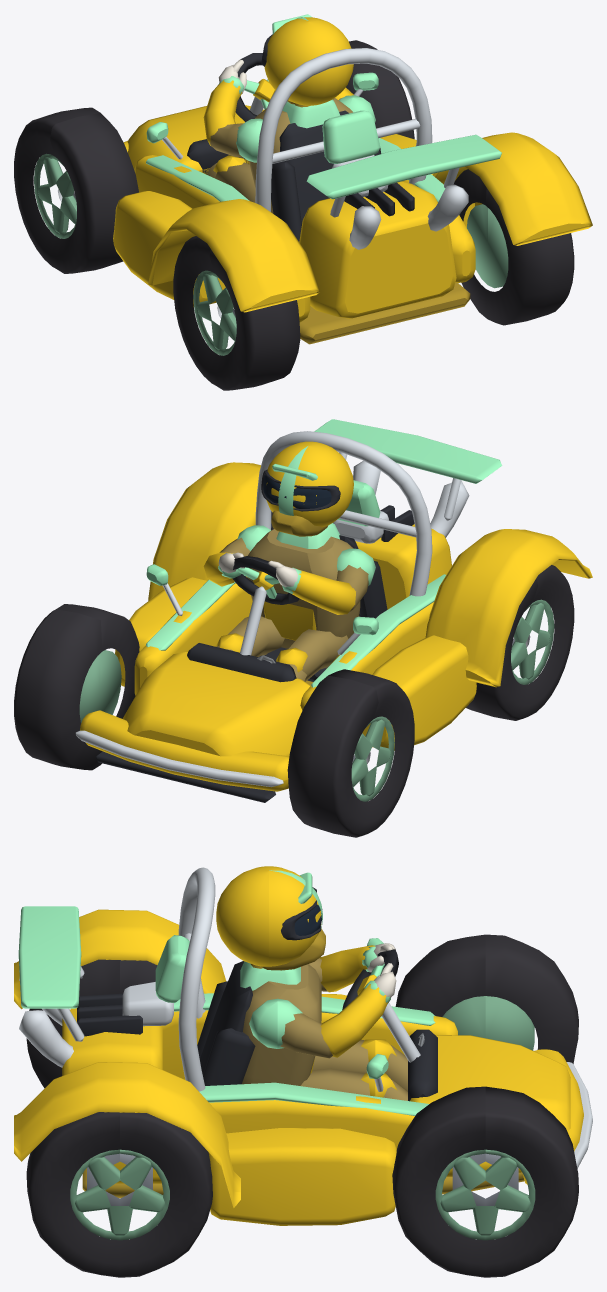
The model's file is kart_6.glb.
3 views of the same model, one above another, from view 1: azimuth 30°, elevation 25°; view 2: azimuth 150°, elevation 25°; view 3: azimuth 270°, elevation 25° (orthographic). The views are drawn at different scales.
Parts seen in each view (by area): view 1: bodyPaint, bodyFenders, WheelFL_tyre, WheelRL_tyre, WheelRR_tyre, bodyChrome, bodyPlastic, driverHelmet, driverArms, driverTorso, WheelFR_tyre, steeringWheel; view 2: bodyPaint, bodyFenders, WheelFL_tyre, WheelFR_tyre, bodyChrome, driverTorso, WheelRL_tyre, driverHelmet, bodyPlastic, driverArms, steeringWheel, driverVisor; view 3: bodyPaint, WheelFR_tyre, WheelRR_tyre, bodyFenders, WheelFL_tyre, bodyChrome, driverTorso, bodyPlastic, driverHelmet, driverArms, WheelRL_tyre, steeringWheel (+1 smaller).
Boxes of the visible parts, x1,y1,x2,y2 form: bodyPaint: [113, 72, 501, 322]; bodyFenders: [148, 132, 592, 312]; WheelFL_tyre: [14, 107, 138, 273]; WheelRL_tyre: [173, 236, 300, 390]; WheelRR_tyre: [453, 169, 574, 325]; bodyChrome: [162, 48, 468, 249]; bodyPlastic: [187, 110, 470, 344]; driverHelmet: [261, 14, 353, 105]; driverArms: [203, 59, 375, 162]; driverTorso: [207, 98, 352, 213]; WheelFR_tyre: [346, 40, 414, 139]; steeringWheel: [235, 53, 275, 121]; bodyPaint: [80, 419, 501, 791]; bodyFenders: [148, 462, 592, 687]; WheelFL_tyre: [287, 669, 414, 837]; WheelFR_tyre: [14, 604, 139, 770]; bodyChrome: [75, 431, 469, 786]; driverTorso: [216, 523, 360, 681]; WheelRL_tyre: [466, 565, 574, 720]; driverHelmet: [261, 441, 353, 536]; bodyPlastic: [96, 505, 414, 802]; driverArms: [203, 525, 375, 614]; steeringWheel: [232, 556, 299, 604]; driverVisor: [263, 475, 331, 508]; bodyPaint: [18, 906, 583, 1225]; WheelFR_tyre: [392, 1086, 578, 1277]; WheelRR_tyre: [26, 1112, 212, 1277]; bodyFenders: [14, 909, 240, 1208]; WheelFL_tyre: [395, 934, 578, 1063]; bodyChrome: [19, 867, 592, 1168]; driverTorso: [240, 961, 407, 1100]; bodyPlastic: [77, 961, 524, 1198]; driverHelmet: [216, 866, 325, 970]; driverArms: [249, 943, 396, 1058]; WheelRL_tyre: [26, 959, 157, 1088]; steeringWheel: [342, 949, 398, 1009].
Bounding box in the file's own units: 1.86 × 1.43 × 2.31.
